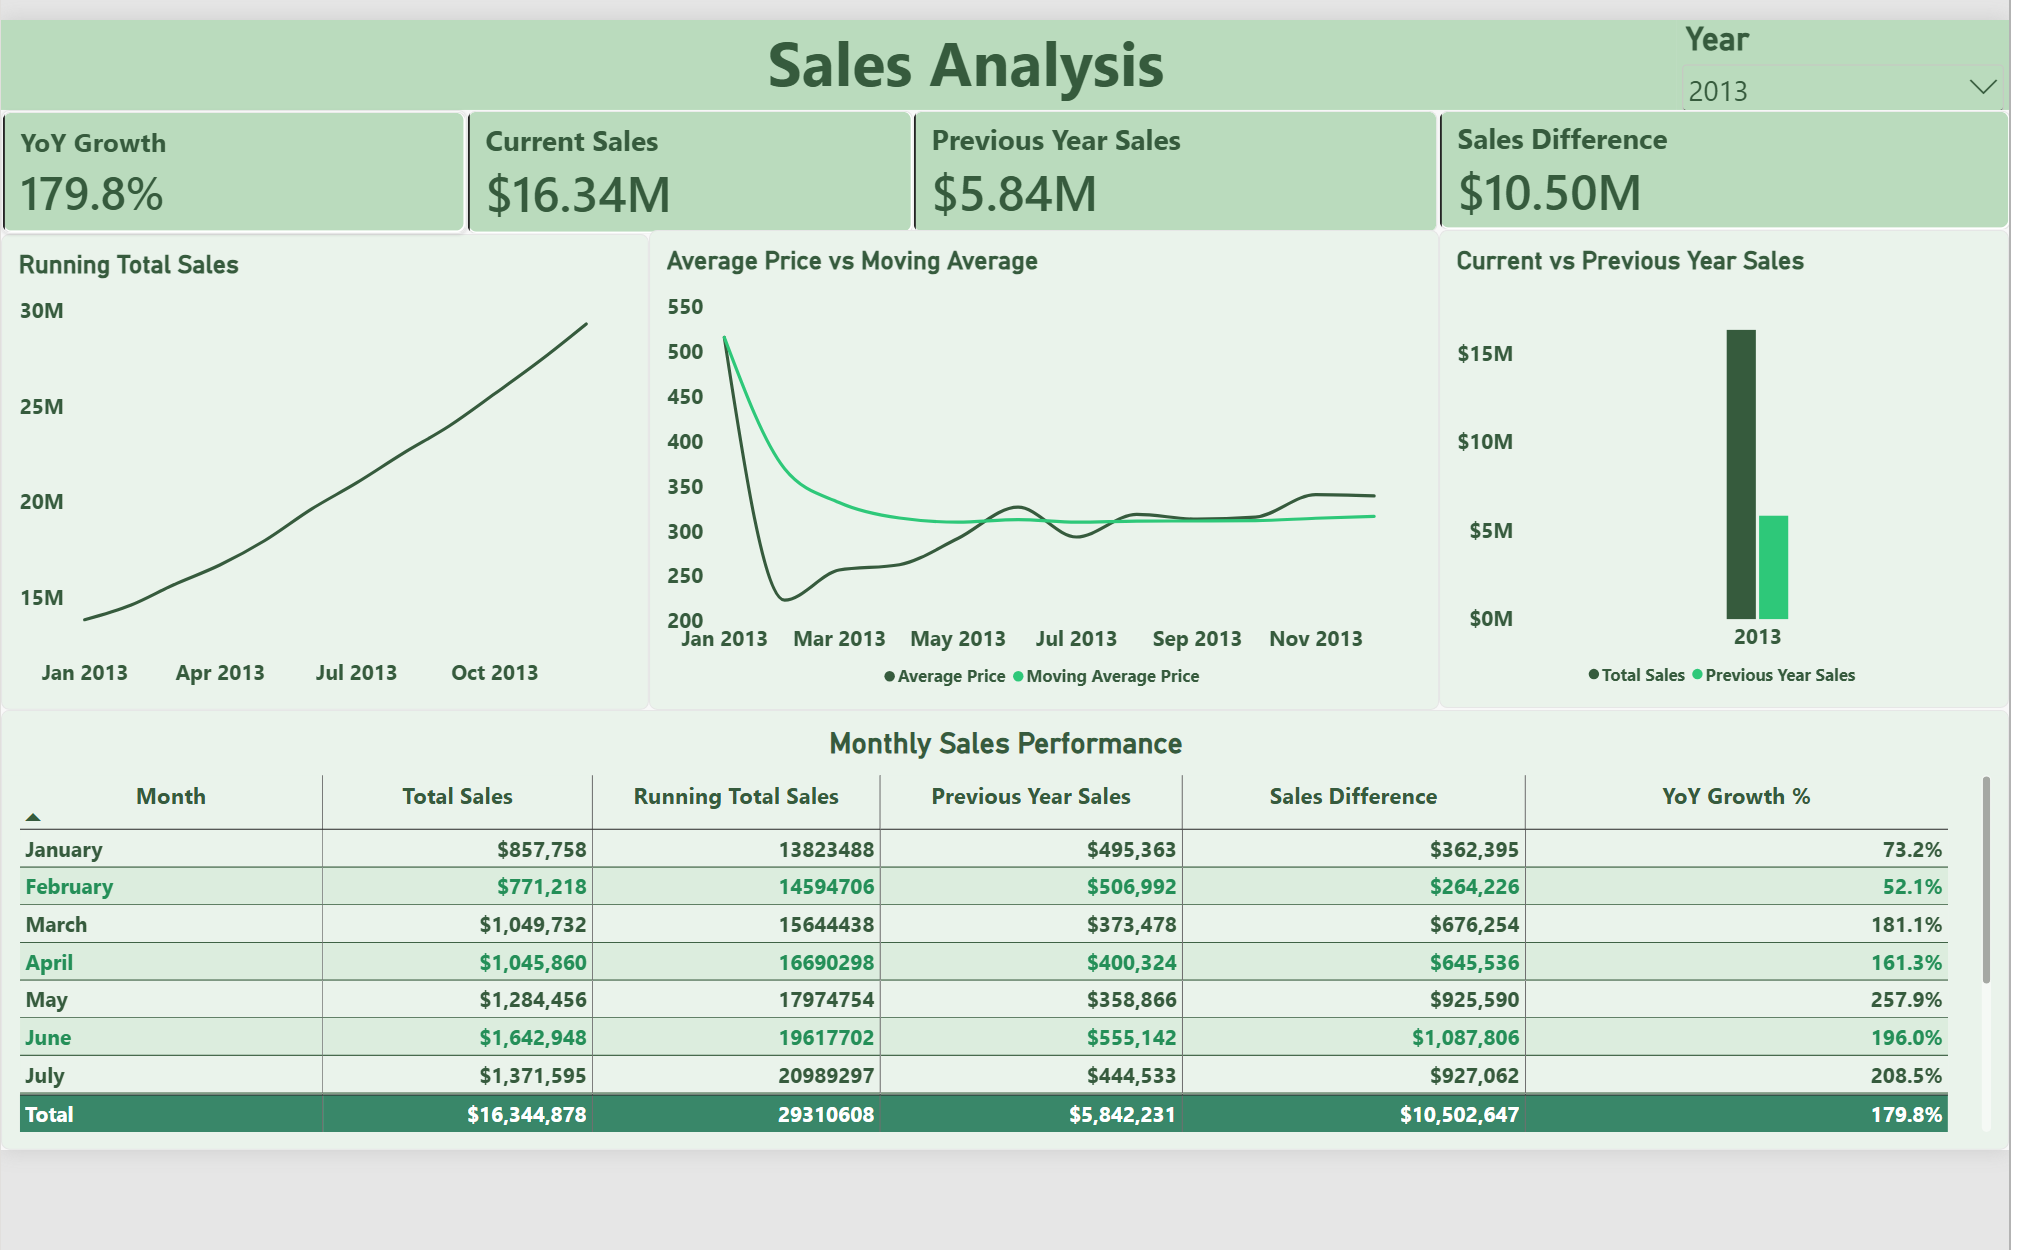

The dashboard page shown, as its layout file describes it:
{"tool":"powerbi","page":{"name":"Sales Analysis","canvas":[1920,1080],"ordinal":1},"visuals":[{"type":"lineChart","title":"Running Total Sales","fields":{"Category":["dim_date.Month Start"],"Y":["fact_sales.Running Total Sales"]},"box":[0,204.6,619.6,418.8],"z":0},{"type":"clusteredColumnChart","title":"Current vs Previous Year Sales ","fields":{"Category":["dim_date.Year"],"Y":["fact_sales.Total Sales","fact_sales.Previous Year Sales"]},"box":[1375,200.8,546.9,422.6],"z":1000},{"type":"slicer","fields":{"Values":["dim_date.Year"]},"box":[1602.5,0,317.5,86.1],"z":2000},{"type":"cardVisual","fields":{"Data":["fact_sales.Total Sales"]},"box":[445.6,86.1,426.5,118.6],"z":3000},{"type":"cardVisual","fields":{"Data":["fact_sales.Previous Year Sales"]},"box":[872,86.1,502.9,118.6],"z":4000},{"type":"lineChart","title":"Average Price vs Moving Average","fields":{"Category":["dim_date.Month Start"],"Y":["fact_sales.Average Price","fact_sales.Moving Average Price"]},"box":[619.6,200.8,755.4,422.6],"z":5000},{"type":"textbox","box":[0,0,1602.5,86.1],"z":6000},{"type":"cardVisual","fields":{"Data":["fact_sales.YoY Sales %"]},"box":[0,86.1,445.6,118.6],"z":7000},{"type":"cardVisual","fields":{"Data":["fact_sales.YoY Sales Difference"]},"box":[1375,86.1,546.9,114.7],"z":8000},{"type":"tableEx","title":"Monthly Sales Performance","fields":{"Values":["dim_date.Month","fact_sales.Total Sales","fact_sales.Running Total Sales","fact_sales.Previous Year Sales","fact_sales.YoY Sales Difference","fact_sales.YoY Sales %"]},"box":[0,623.4,1920,459],"z":9000}]}

Visuals, with their boxes on the page's 1920x1080 design canvas (x1, y1, x2, y2). These are canvas units, not pixel positions in the 2022x1250 screenshot, which may show the page scaled, cropped or inside an application window:
"Running Total Sales" lineChart: BBox(0, 205, 620, 623)
"Current vs Previous Year Sales " clusteredColumnChart: BBox(1375, 201, 1922, 623)
slicer - dim_date.Year: BBox(1602, 0, 1920, 86)
cardVisual - fact_sales.Total Sales: BBox(446, 86, 872, 205)
cardVisual - fact_sales.Previous Year Sales: BBox(872, 86, 1375, 205)
"Average Price vs Moving Average" lineChart: BBox(620, 201, 1375, 623)
textbox: BBox(0, 0, 1602, 86)
cardVisual - fact_sales.YoY Sales %: BBox(0, 86, 446, 205)
cardVisual - fact_sales.YoY Sales Difference: BBox(1375, 86, 1922, 201)
"Monthly Sales Performance" tableEx: BBox(0, 623, 1920, 1082)
